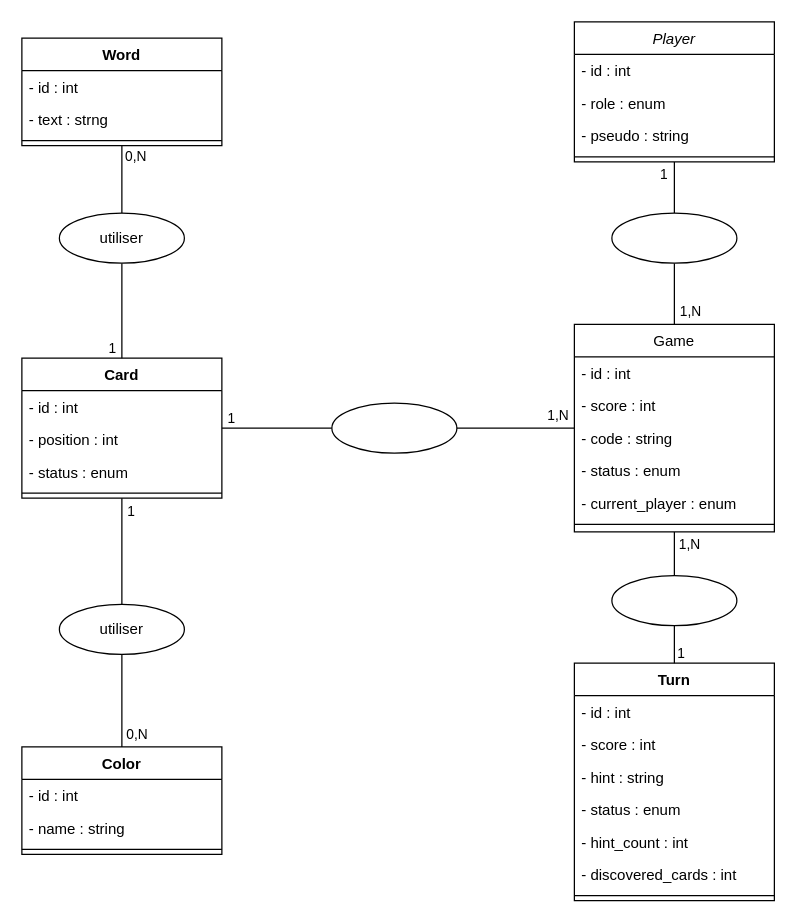
Some shapes in this 796 by 923 pixel diagram are drawn without their labels. The shapes that lost their labels are listed below. From the top down, each one's centre as x and y in pixels, then its label:
At [674,237]: "Jouer".
At [394,427]: "Associer".
At [674,600]: "Inclure".
